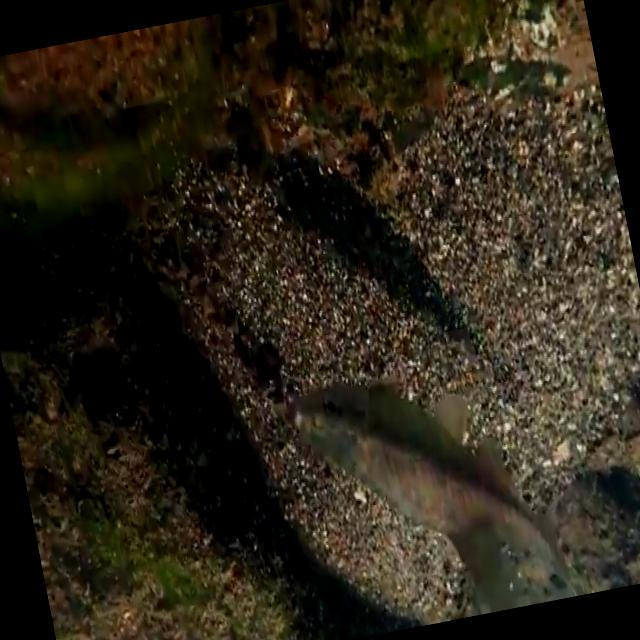Cakil Baligi: (280, 343, 582, 635)
